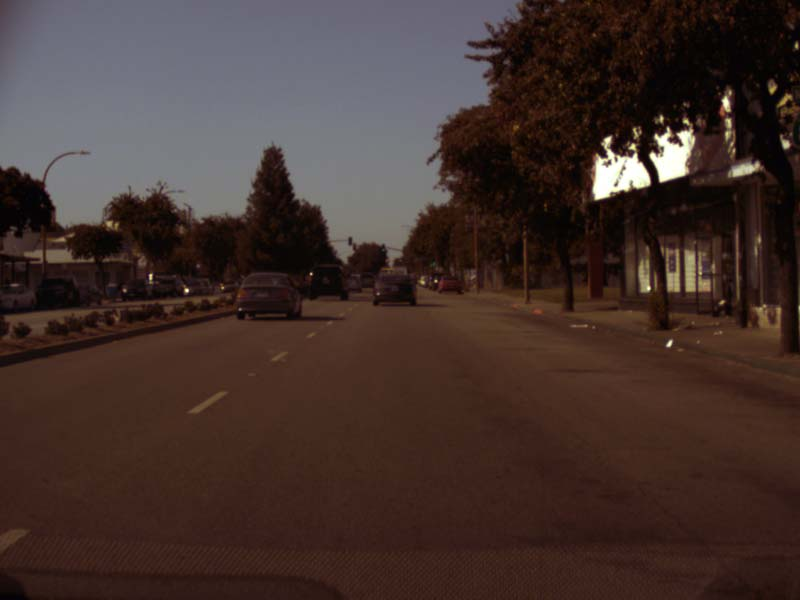Green: (380, 243, 385, 253)
